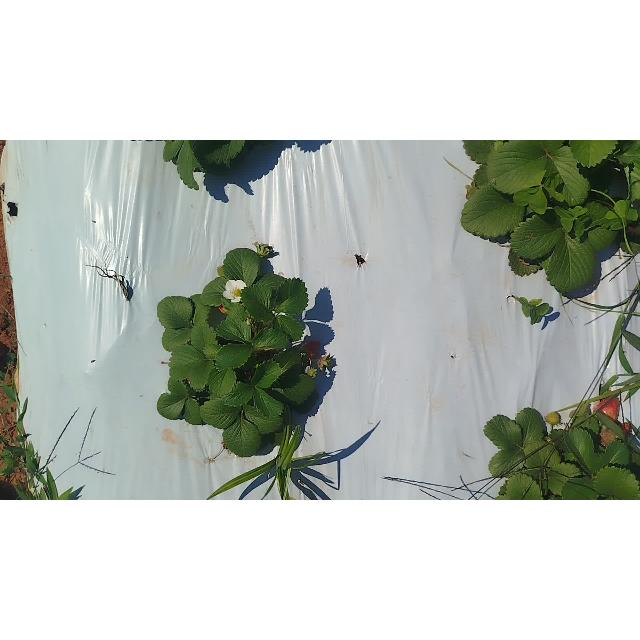maduro: (594, 396, 620, 414), (302, 340, 320, 358)
no-maduro: (546, 412, 560, 424)
